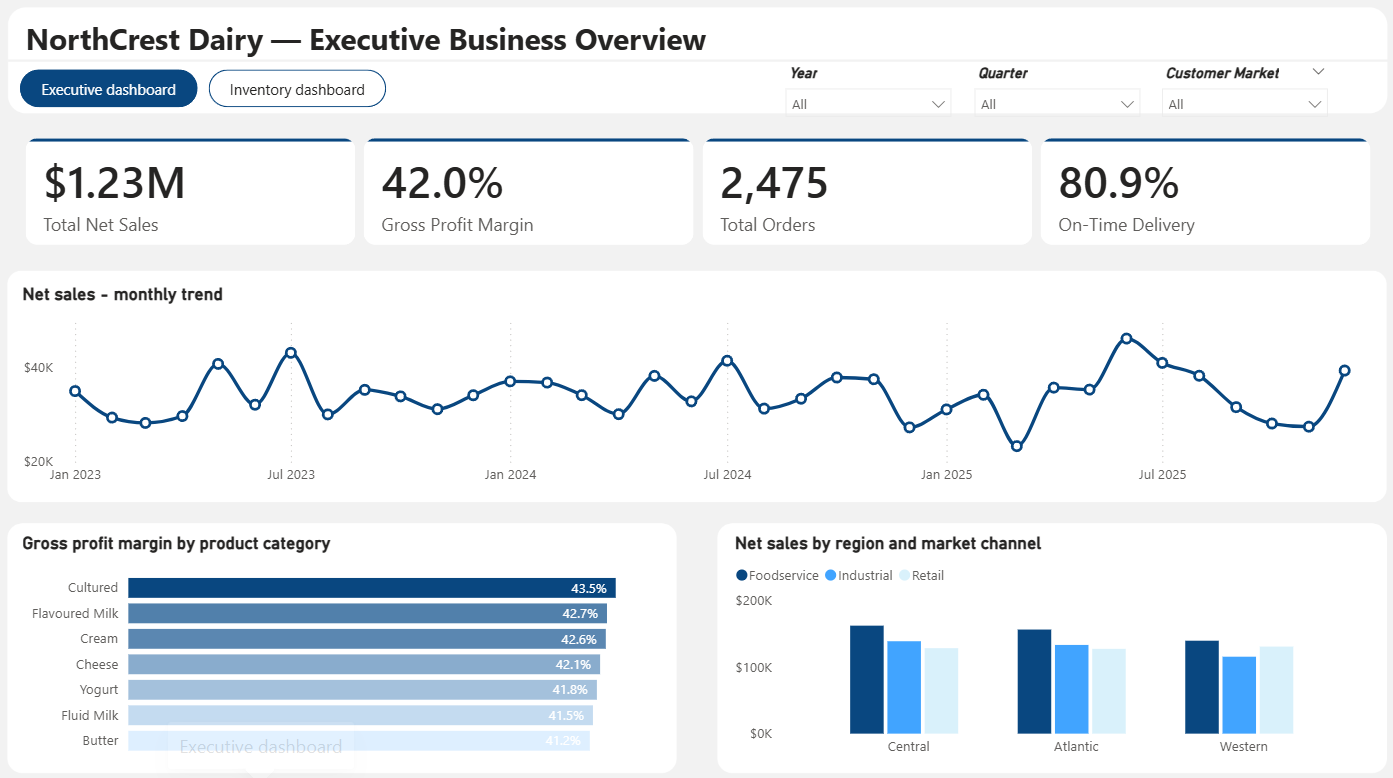

This screenshot's page, from the dashboard's own definition file:
{"tool":"powerbi","page":{"name":"Executive dashboard","canvas":[1280,720],"ordinal":0},"visuals":[{"type":"cardVisual","fields":{"Data":["orders.Total Net Sales","orders.Gross Profit Margin %","orders.Total Orders","orders.On-Time Delivery Rate %"]},"box":[16.9,116.9,1246.2,130.8],"z":0},{"type":"lineChart","title":"Net sales - monthly trend","fields":{"Y":["orders.Total Net Sales"],"Category":["dates.Date.Variation.Date Hierarchy.Year","dates.Date.Variation.Date Hierarchy.Quarter","dates.Date.Variation.Date Hierarchy.Month","dates.Date.Variation.Date Hierarchy.Day"]},"box":[27.7,264.6,1223.1,189.2],"z":1000},{"type":"clusteredBarChart","title":"Gross profit margin by product category","fields":{"Y":["orders.Gross Profit Margin %"],"Category":["orders.Product Category"]},"box":[27.3,489.1,586,210.5],"z":2000},{"type":"clusteredColumnChart","title":"Net sales by region and market channel","fields":{"Y":["orders.Total Net Sales"],"Series":["orders.Customer Market"],"Category":["orders.Region Short"]},"box":[669.3,489.1,581.5,210.5],"z":3000},{"type":"slicer","fields":{"Values":["dates.Date.Variation.Date Hierarchy.Year"]},"box":[710.2,62.1,169.6,54.5],"z":4000},{"type":"slicer","fields":{"Values":["dates.Date.Variation.Date Hierarchy.Quarter"]},"box":[879.8,62.1,169.6,54.5],"z":5000},{"type":"slicer","fields":{"Values":["orders.Customer Market"]},"box":[1049.3,62.1,169.6,54.5],"z":6000},{"type":"textbox","box":[30.3,19.7,679.9,57.5],"z":7000},{"type":"pageNavigator","box":[30.3,71.2,331.6,34.8],"z":8000}]}

Visuals, with their boxes in screenshot pixels (x1, y1, x2, y2), scaled from the page's 1280x720 canvas onto the 1393x778 screenshot:
cardVisual - orders.Total Net Sales x orders.Gross Profit Margin %: 18:126:1375:268
"Net sales - monthly trend" lineChart: 30:286:1361:490
"Gross profit margin by product category" clusteredBarChart: 30:528:667:756
"Net sales by region and market channel" clusteredColumnChart: 728:528:1361:756
slicer - dates.Date.Variation.Date Hierarchy.Year: 773:67:957:126
slicer - dates.Date.Variation.Date Hierarchy.Quarter: 957:67:1142:126
slicer - orders.Customer Market: 1142:67:1327:126
textbox: 33:21:773:83
pageNavigator: 33:77:394:115
